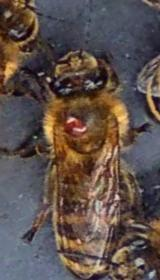varroa_mite: (56, 104, 90, 144)
